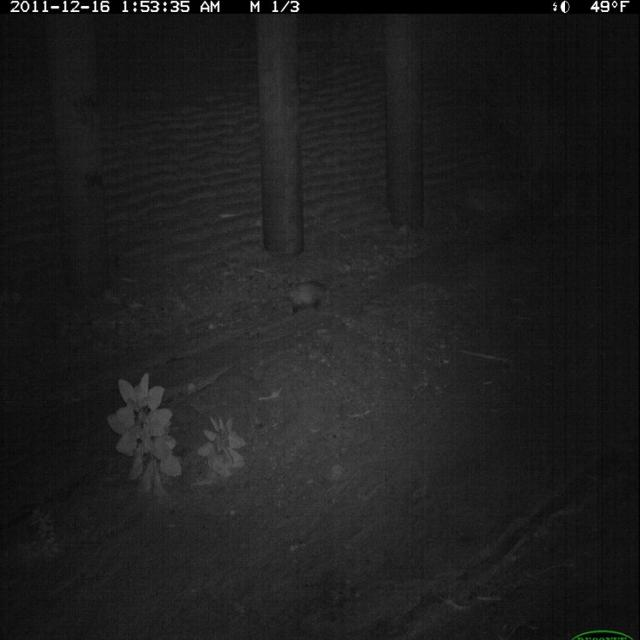opossum: (264, 276, 338, 323)
